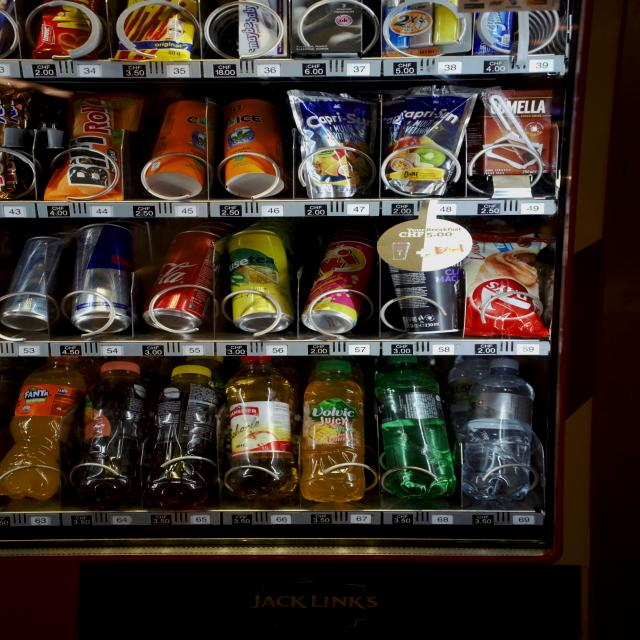7days_croissantschoko_packung_80_1_0000000000003: (465, 230, 552, 336)
bifi_roll__50__4251097402635: (36, 86, 136, 202)
c-swiss_dosenabisicetea__33__9120025930135: (139, 97, 215, 193), (219, 100, 291, 200)
caferoyal_classicmacchiato__33__7617014164487: (387, 244, 458, 332)
caprisun_multivitamin__20__4000177605004: (374, 85, 475, 203), (284, 83, 384, 199)
coke__flasche_50__54491472: (147, 226, 213, 329)
comella_schokodrink__33__7613100037253: (475, 84, 565, 191)
fanta___50__40822938: (2, 359, 84, 499)
fuse_lemon__50__5449000235947: (151, 359, 221, 512)
fuse_lemon_dose_33__5449000235947: (226, 230, 295, 332)
fuse_peach__50__5449000236623: (80, 364, 153, 499)
ramseier_schorle__50__7610057012456: (224, 353, 304, 516)
redbull___33__90162909: (74, 221, 138, 337)
tiki_himbeerbrause_dose_33_1_: (312, 242, 368, 334)
valser_classic__50__76404160: (374, 356, 463, 501)
valser_still__50__7610335002575: (461, 364, 541, 504)
volvic_pinapple__50__305764335648: (295, 362, 379, 506)
